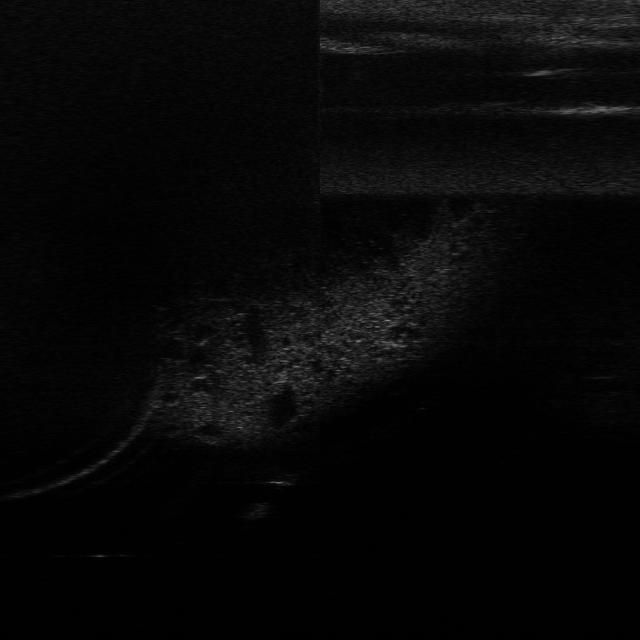cube: (263, 467, 301, 487)
cylinder: (237, 498, 272, 523)
